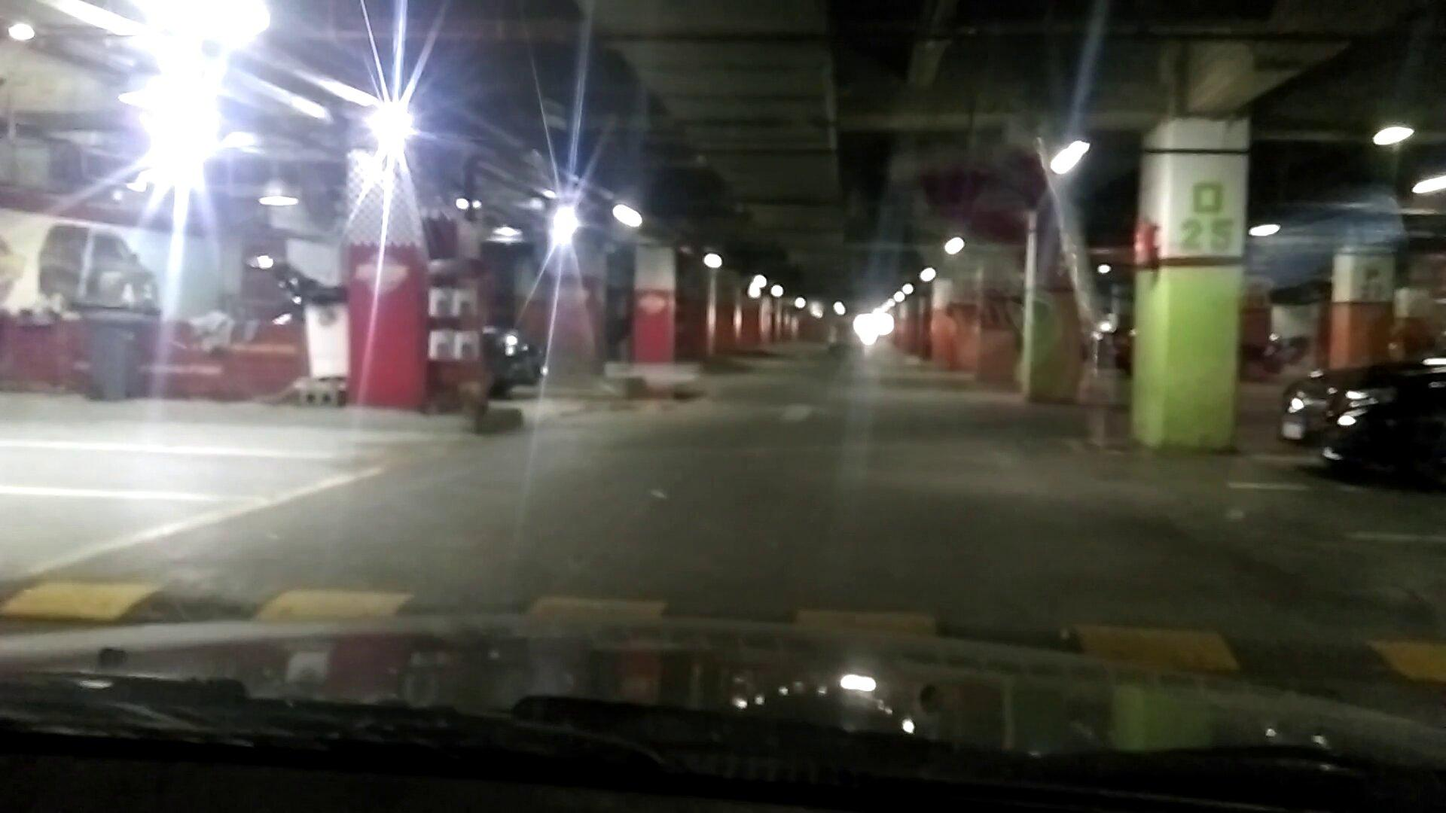Bump: (0, 551, 1446, 708)
